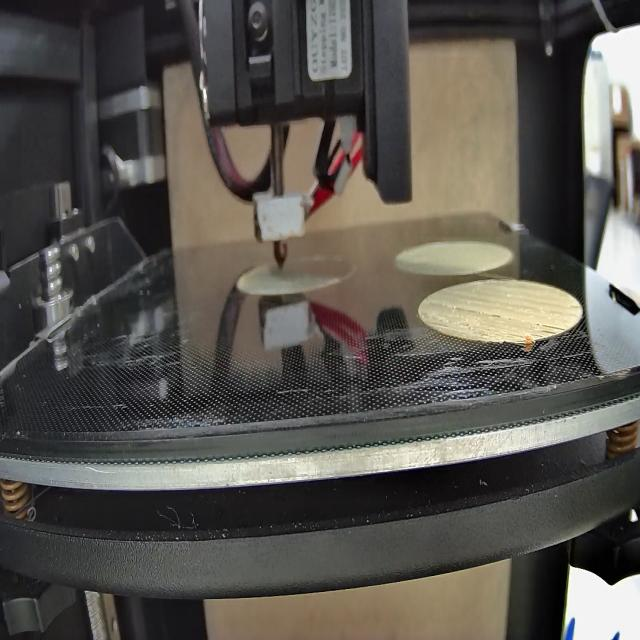under_extrusion: (451, 304, 514, 320), (526, 320, 565, 338), (471, 324, 493, 336), (428, 318, 448, 331), (505, 333, 523, 343), (568, 303, 582, 309)
